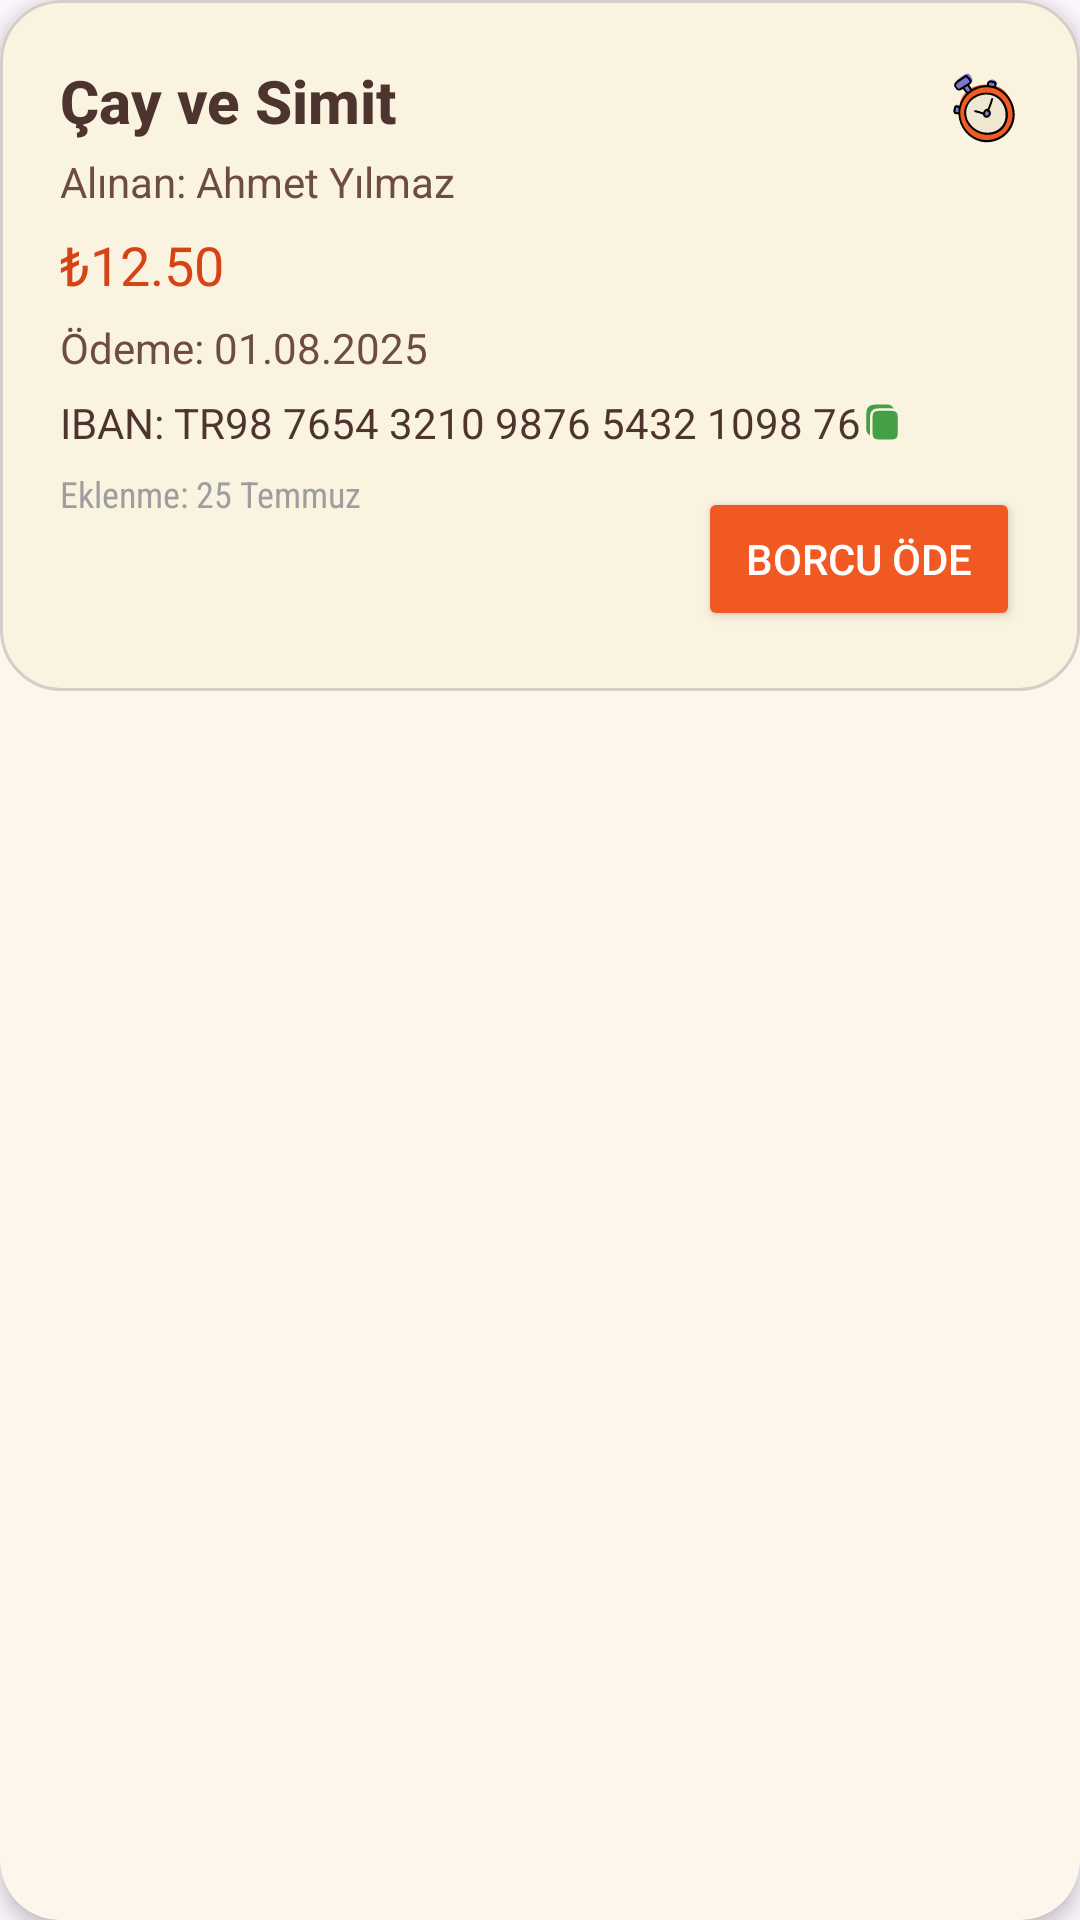

Where to tap for icons on this 1080 x 1920 app screen, as [x,y]:
Kopyala IBAN: [882,422]
saat: [984,108]
